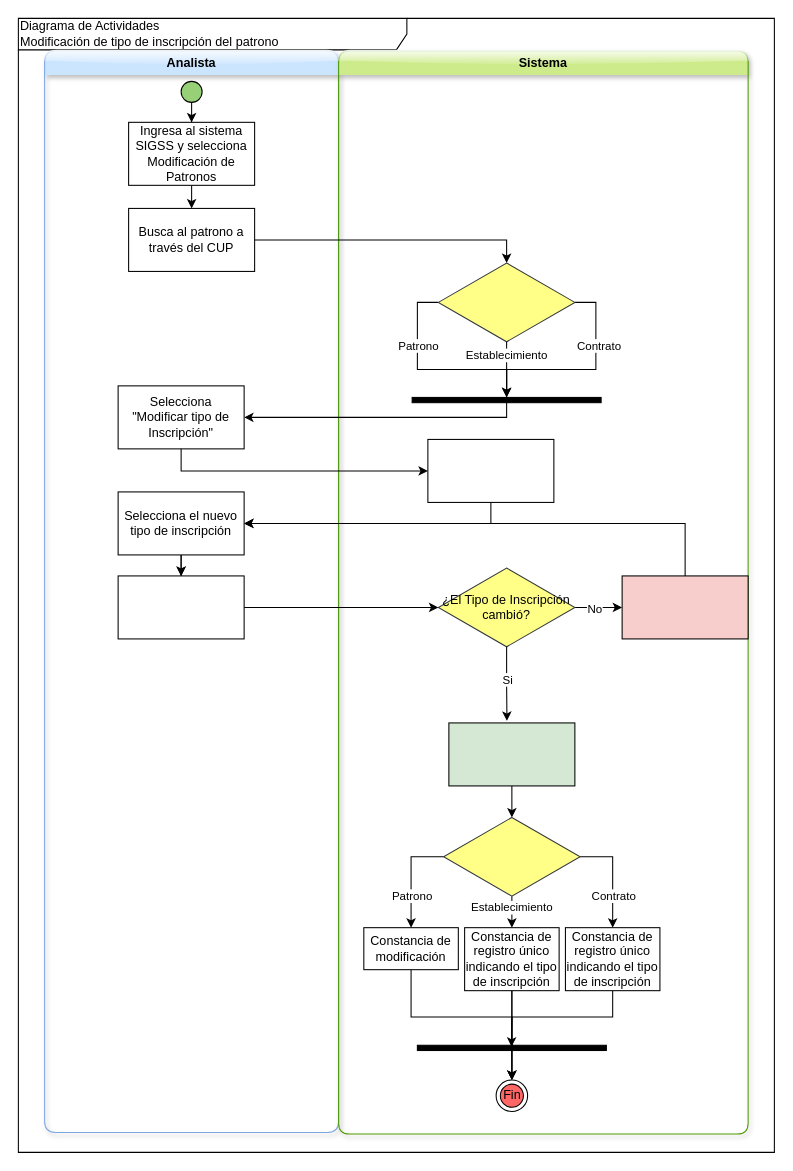
Some shapes in this 793 by 1171 pixel diagram are drawn without their labels. The shapes that lost their labels are listed below. From the top down, each one's centre as x and y in pixels, then its label:
point 506,302: ¿Que desea modificar?
point 490,470: El sistema muestra el Tipo de Inscripción actual.
point 180,607: Guarda los cambios.
point 684,607: El sistema muestra mensaje: "No existen cambios para guardar"
point 511,754: Actualiza el Tipo de Inscripción seleccionado.
point 511,856: Identifica el tipo de constancia
